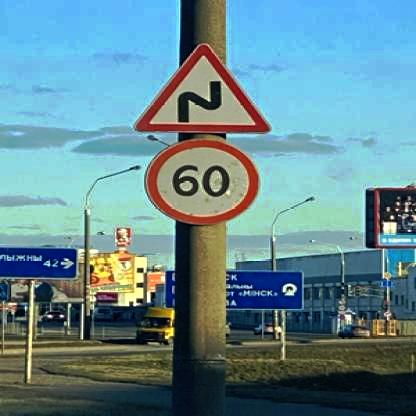Speed Limit -60-: (138, 135, 264, 225)
